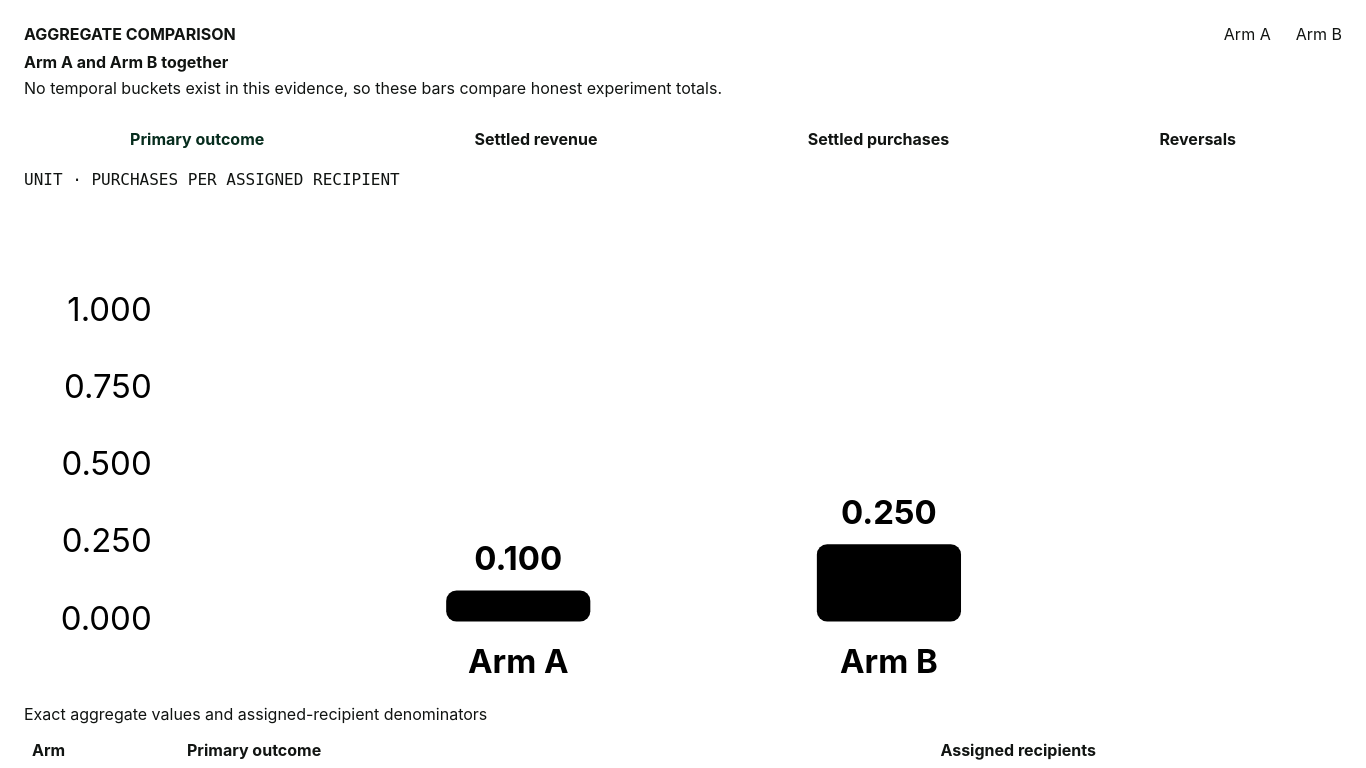
Test: Aggregate results comparison › switches compatible metrics while keeping exact values and denominators in a table
(page scrolled)
Expected: the text "No temporal buckets exist" is shown, [24, 78, 722, 98]
Click the radio button labelled "Settled revenue": x=536, y=139 [371, 121, 701, 157]
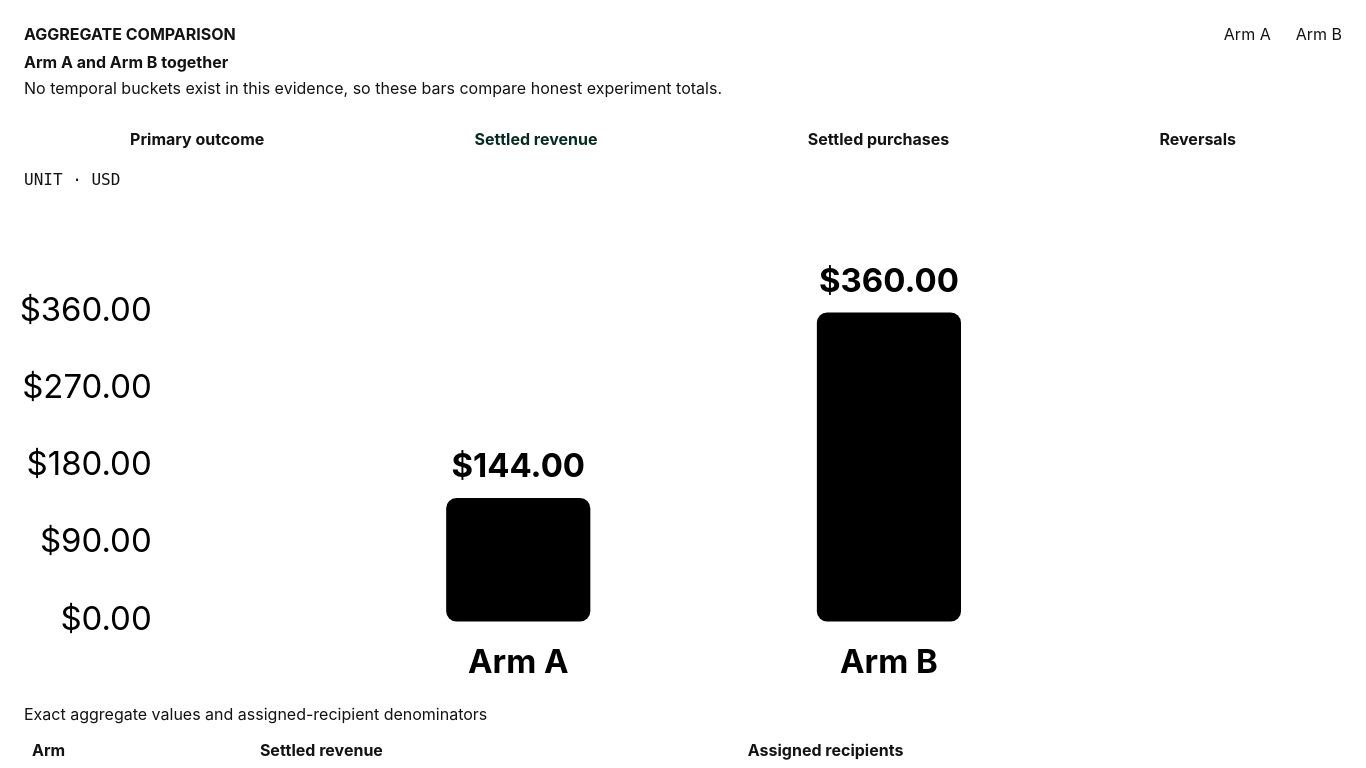
Expected: the text "Unit · USD" is shown, [24, 170, 120, 189]
Click the radio button labelled "Reversals": x=1198, y=139 [1056, 121, 1339, 157]
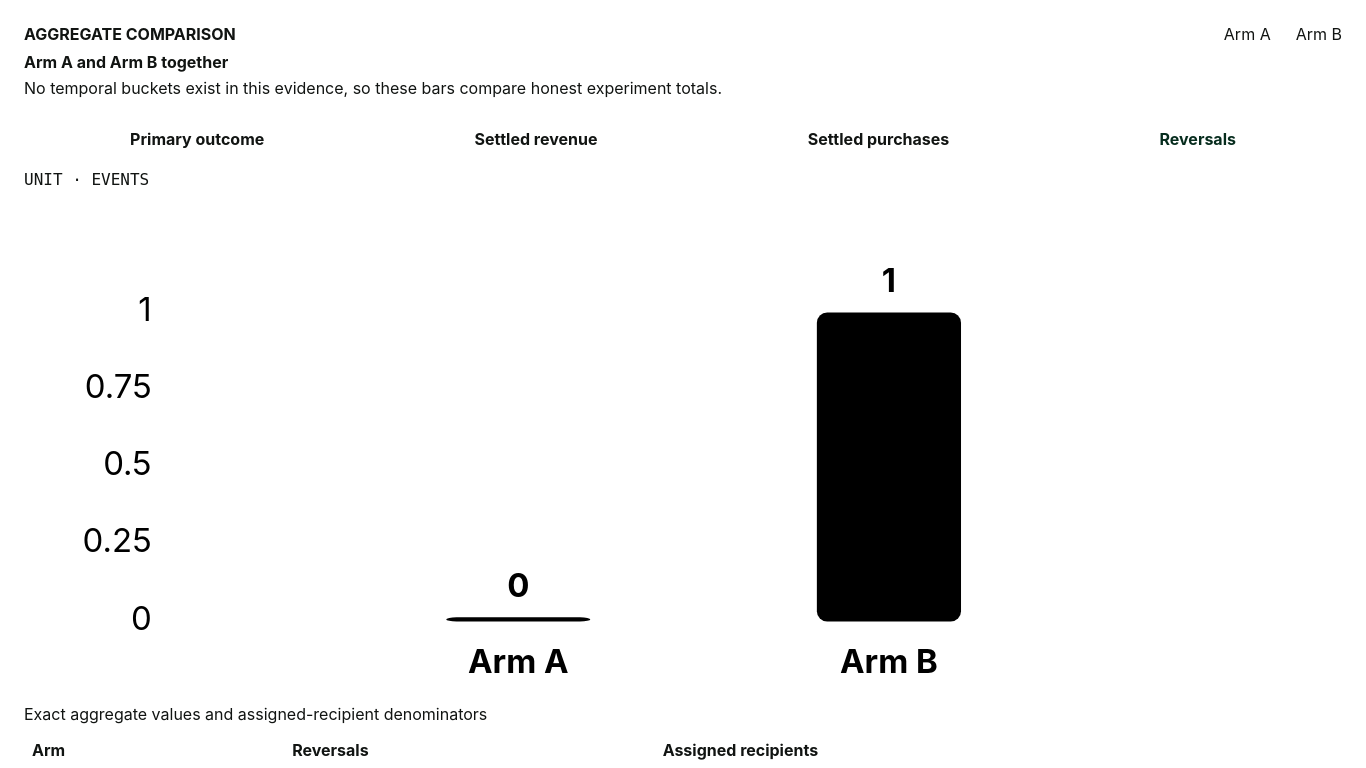
Expected: the text "Unit · events" is shown, [24, 170, 149, 189]
